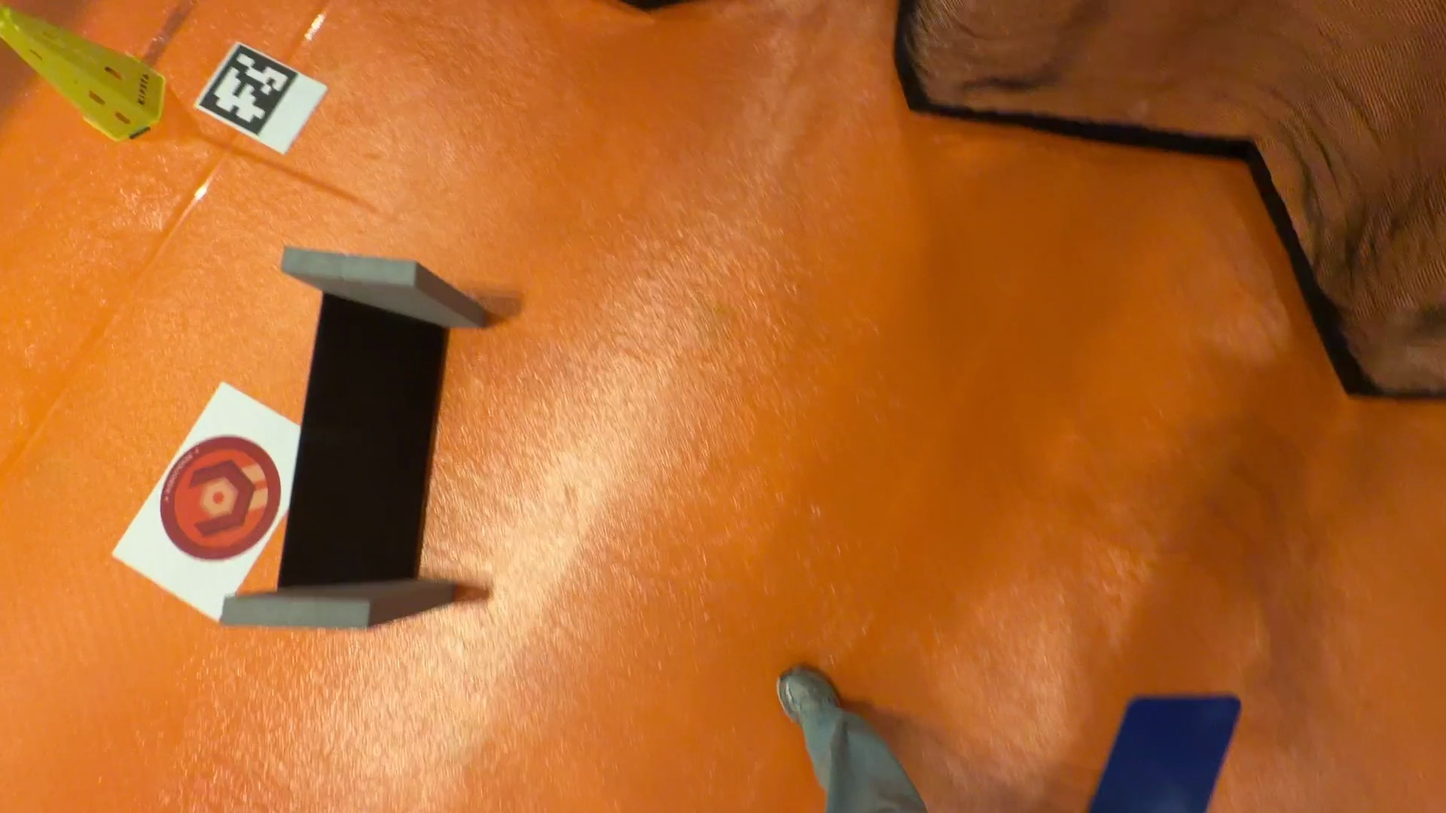landing_pad: (157, 436, 283, 557)
